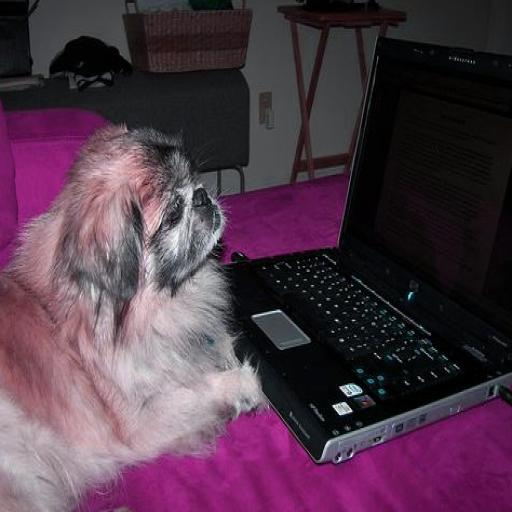dog_face: (46, 139, 229, 282)
